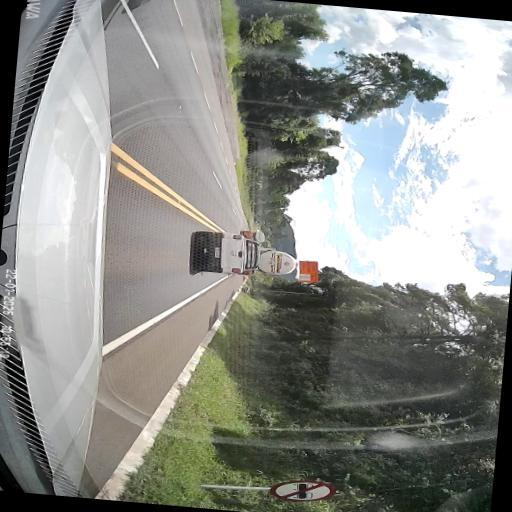R-7: (268, 477, 336, 505)
